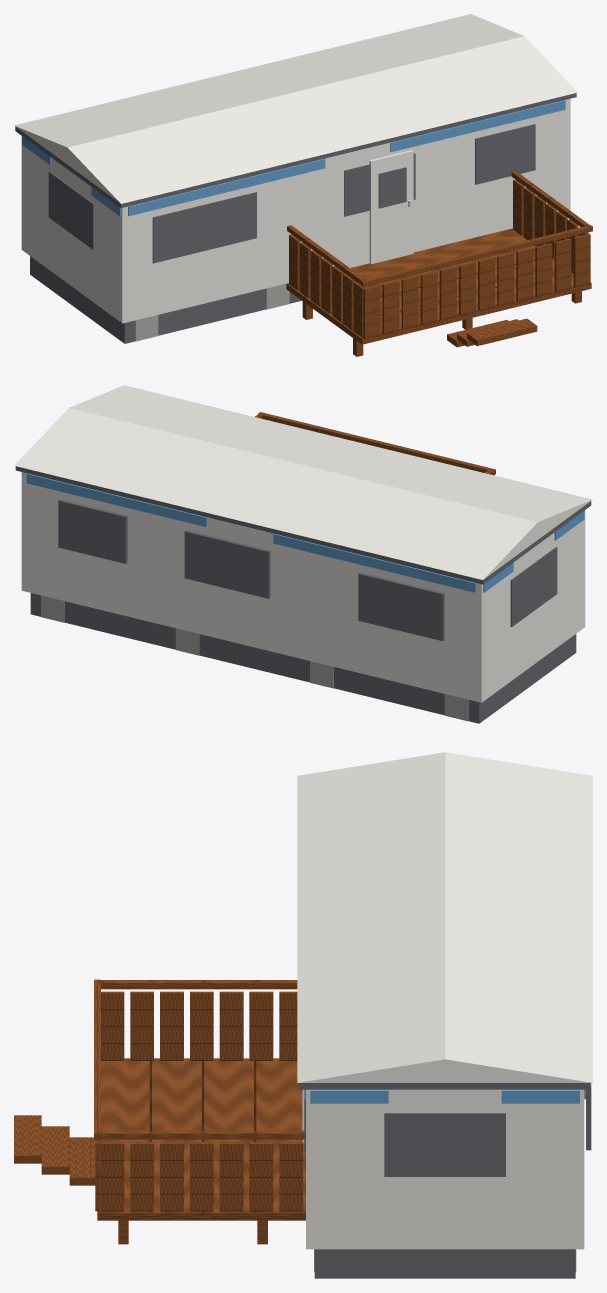
Rendered from caravan-park-and-campsite-static-caravan-with-decking-7cb6c0d2__35341.glb.
The picture shows the model from 3 angles, top to bottom: view 1: azimuth 30°, elevation 25°; view 2: azimuth 150°, elevation 25°; view 3: azimuth 270°, elevation 25°; orthographic projection. The views are drawn at different scales.
Parts seen in each view (by area): view 1: static-caravan-with-decking-shell, static-caravan-with-decking-timber, static-caravan-with-decking-charcoal, static-caravan-with-decking-azure, door/shell, door/charcoal, static-caravan-with-decking-hard; view 2: static-caravan-with-decking-shell, static-caravan-with-decking-charcoal, static-caravan-with-decking-azure, static-caravan-with-decking-hard, static-caravan-with-decking-timber; view 3: static-caravan-with-decking-shell, static-caravan-with-decking-timber, static-caravan-with-decking-charcoal, static-caravan-with-decking-azure.
Part boxes in pixels (box(x1,y1,x2,y2)): static-caravan-with-decking-shell: box(14, 14, 577, 323); static-caravan-with-decking-timber: box(286, 171, 592, 356); static-caravan-with-decking-charcoal: box(15, 93, 576, 343); static-caravan-with-decking-azure: box(22, 100, 565, 216); door/shell: box(369, 150, 413, 264); door/charcoal: box(378, 167, 406, 208); static-caravan-with-decking-hard: box(135, 284, 289, 341); static-caravan-with-decking-shell: box(14, 385, 592, 702); static-caravan-with-decking-charcoal: box(15, 466, 591, 723); static-caravan-with-decking-azure: box(26, 473, 584, 592); static-caravan-with-decking-hard: box(41, 595, 468, 721); static-caravan-with-decking-timber: box(255, 412, 495, 475); static-caravan-with-decking-shell: box(297, 752, 592, 1249); static-caravan-with-decking-timber: box(14, 979, 305, 1244); static-caravan-with-decking-charcoal: box(300, 1083, 591, 1278); static-caravan-with-decking-azure: box(304, 1089, 585, 1103).
Size of the model in its own units: 8.36 by 2.87 by 6.66.
Materials: 6 (2 with a texture image).
